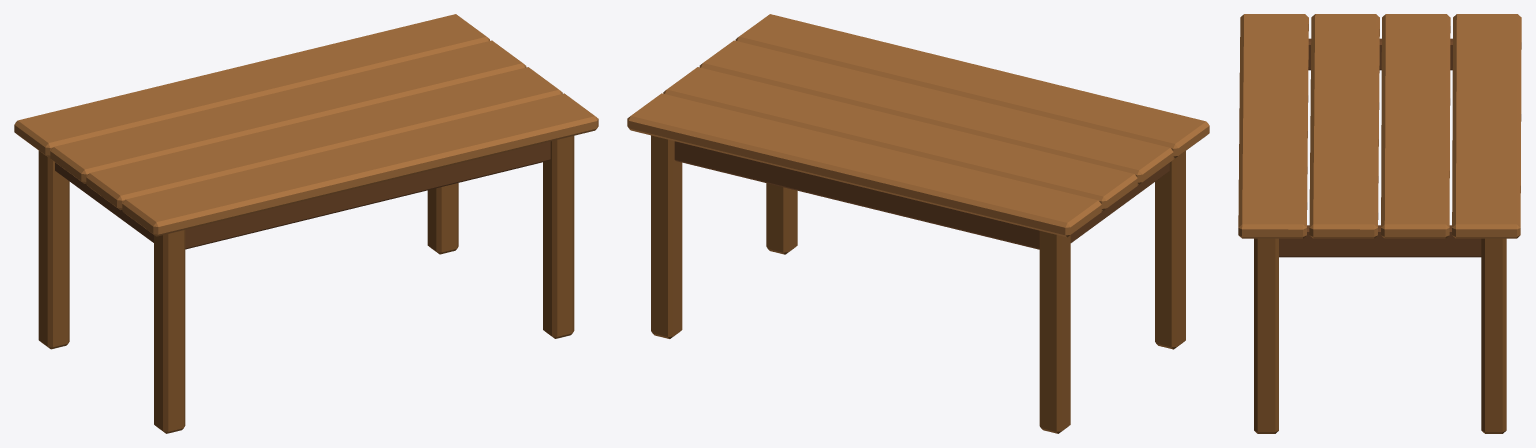
The model's file is Prop_WoodTable.fbx.
3 renders of one model, left to right at view 1: azimuth 30°, elevation 25°; view 2: azimuth 150°, elevation 25°; view 3: azimuth 270°, elevation 25°, orthographic.
Visible parts, largest first — view 1: Prop_WoodTable; view 2: Prop_WoodTable; view 3: Prop_WoodTable.
Part boxes in pixels (bbox=[...]): Prop_WoodTable: bbox=[14, 14, 598, 433]; Prop_WoodTable: bbox=[627, 14, 1209, 433]; Prop_WoodTable: bbox=[1238, 14, 1521, 433].
Bounding box in the file's own units: 1.6 × 0.76 × 0.8967.
